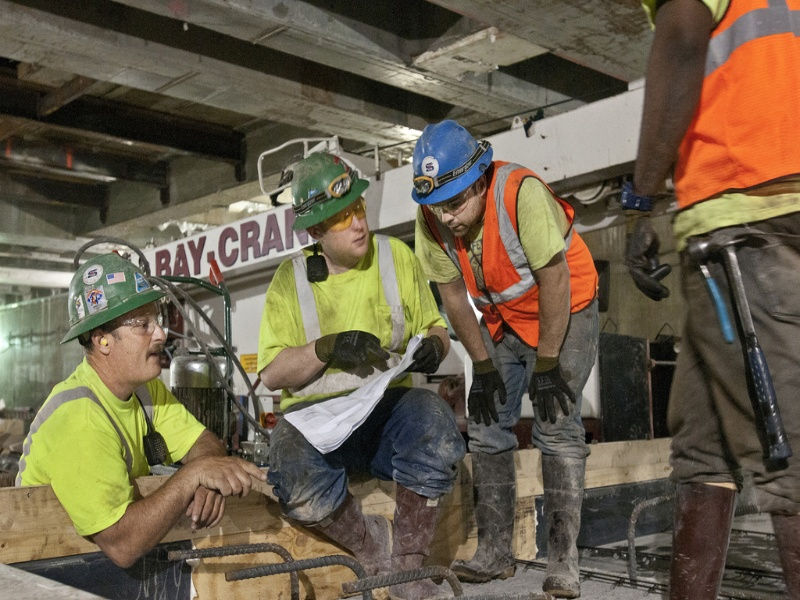Baret: (410, 120, 493, 202), (66, 254, 167, 316), (292, 151, 369, 230)
Gozluk: (109, 314, 161, 335), (427, 198, 473, 214)
